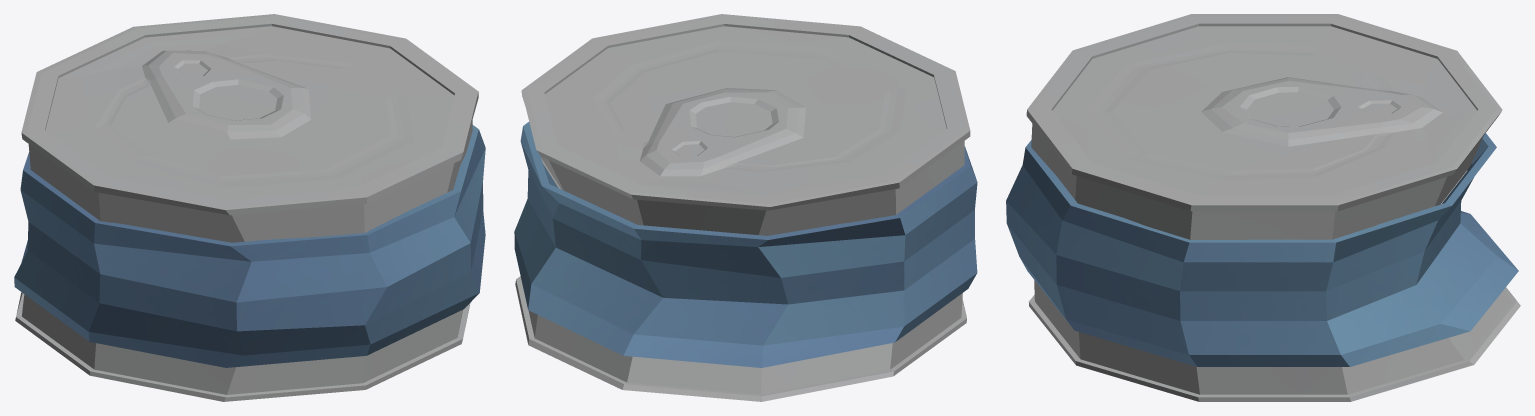
Rendered from can_2_closed.glb.
3 renders of one model, left to right at view 1: azimuth 30°, elevation 25°; view 2: azimuth 150°, elevation 25°; view 3: azimuth 270°, elevation 25°, orthographic. The views are drawn at different scales.
Visible parts, largest first — view 1: can_2_closed; view 2: can_2_closed; view 3: can_2_closed.
Part boxes in pixels (<box>): can_2_closed: <box>14,14,485,401</box>; can_2_closed: <box>514,14,977,401</box>; can_2_closed: <box>1006,14,1520,401</box>.
Size of the model in its own units: 0.1148 by 0.0541 by 0.1267.
Materials: 1 (1 with a texture image).
